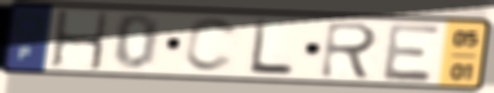0: (113, 13, 163, 73)
C: (181, 16, 241, 75)
E: (381, 22, 445, 84)
H: (49, 9, 111, 72)
L: (246, 18, 296, 78)
R: (317, 19, 382, 81)
